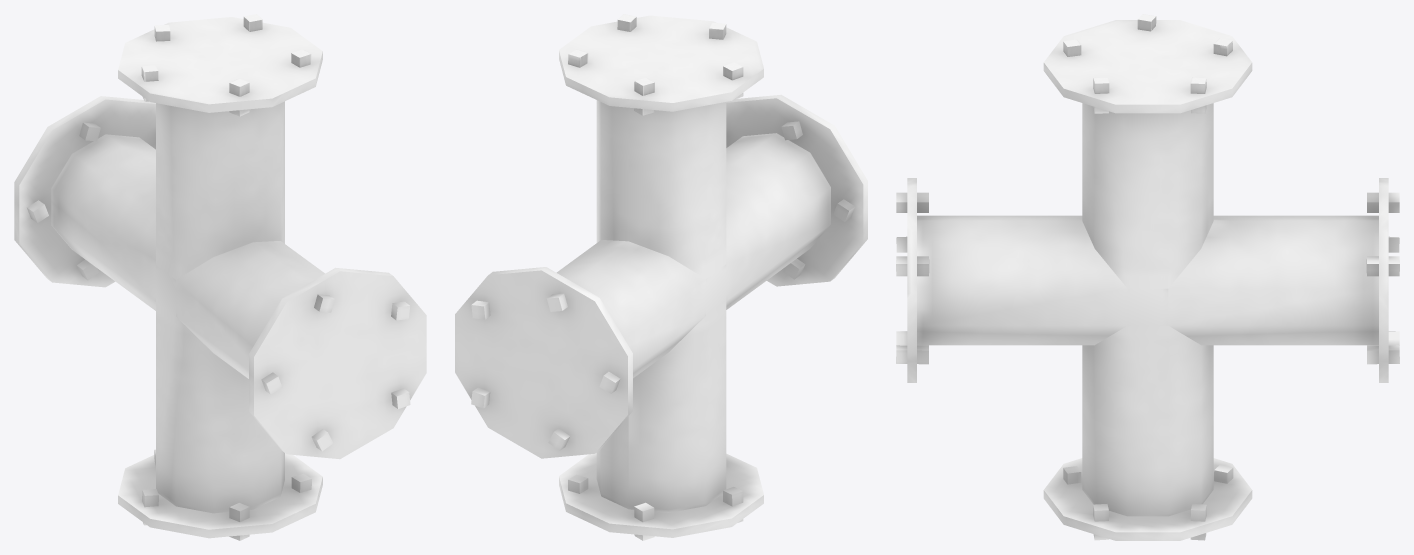
The model's file is PipeJunction.glb.
3 renders of one model, left to right at view 1: azimuth 30°, elevation 25°; view 2: azimuth 150°, elevation 25°; view 3: azimuth 270°, elevation 25°, orthographic.
Visible parts, largest first — view 1: PipeJunction; view 2: PipeJunction; view 3: PipeJunction.
Boxes of the visible parts, box(x1,y1,x2,y2) form: PipeJunction: box(14, 14, 426, 540); PipeJunction: box(455, 14, 867, 540); PipeJunction: box(896, 14, 1399, 540).
Size of the model in its own units: 0.3965 by 0.9966 by 0.9966.
1 material, 1 textured.
